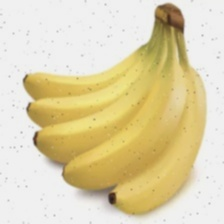banana: (46, 21, 209, 218)
